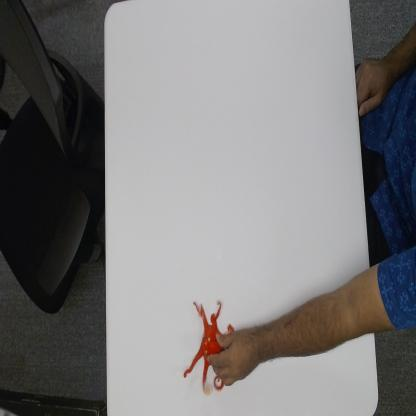Arm: (272, 262, 380, 362)
Hand: (206, 324, 271, 390)
Octopus: (182, 295, 236, 397)
